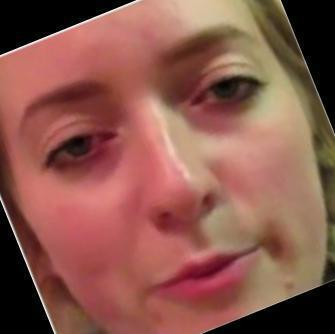Drunk: (4, 57, 321, 313)
